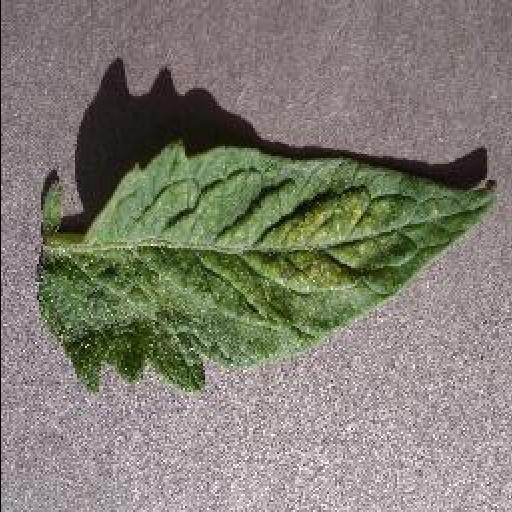disease_tomato: (40, 142, 500, 390)
